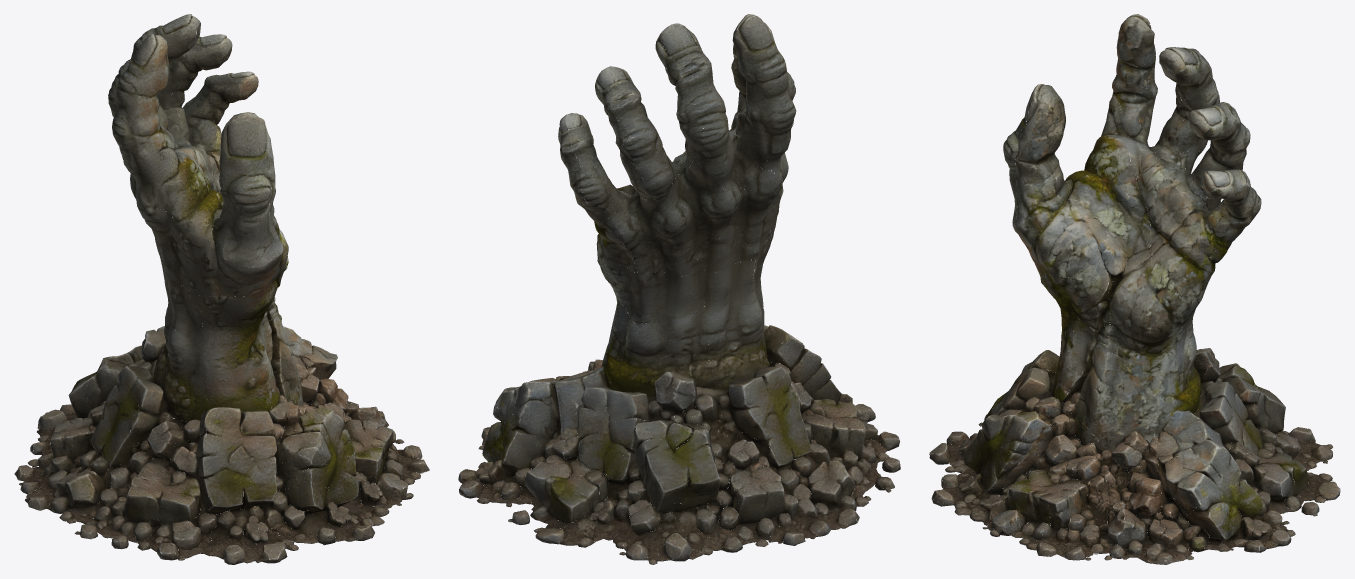
File: colossus-hand-tripo.glb
3 views of the same model, side by side, from view 1: azimuth 30°, elevation 25°; view 2: azimuth 150°, elevation 25°; view 3: azimuth 270°, elevation 25° (orthographic). The views are drawn at different scales.
Visible parts, largest first — view 1: tripo_node_b09941b8-04fd-4cca-917f-7c0d52f3bec1; view 2: tripo_node_b09941b8-04fd-4cca-917f-7c0d52f3bec1; view 3: tripo_node_b09941b8-04fd-4cca-917f-7c0d52f3bec1.
Boxes of the visible parts, box(x1,y1,x2,y2) form: tripo_node_b09941b8-04fd-4cca-917f-7c0d52f3bec1: box(14, 14, 429, 564); tripo_node_b09941b8-04fd-4cca-917f-7c0d52f3bec1: box(458, 14, 900, 564); tripo_node_b09941b8-04fd-4cca-917f-7c0d52f3bec1: box(929, 14, 1340, 564).
Size of the model in its own units: 0.8269 by 1 by 0.8545.
1 material, 1 textured.
